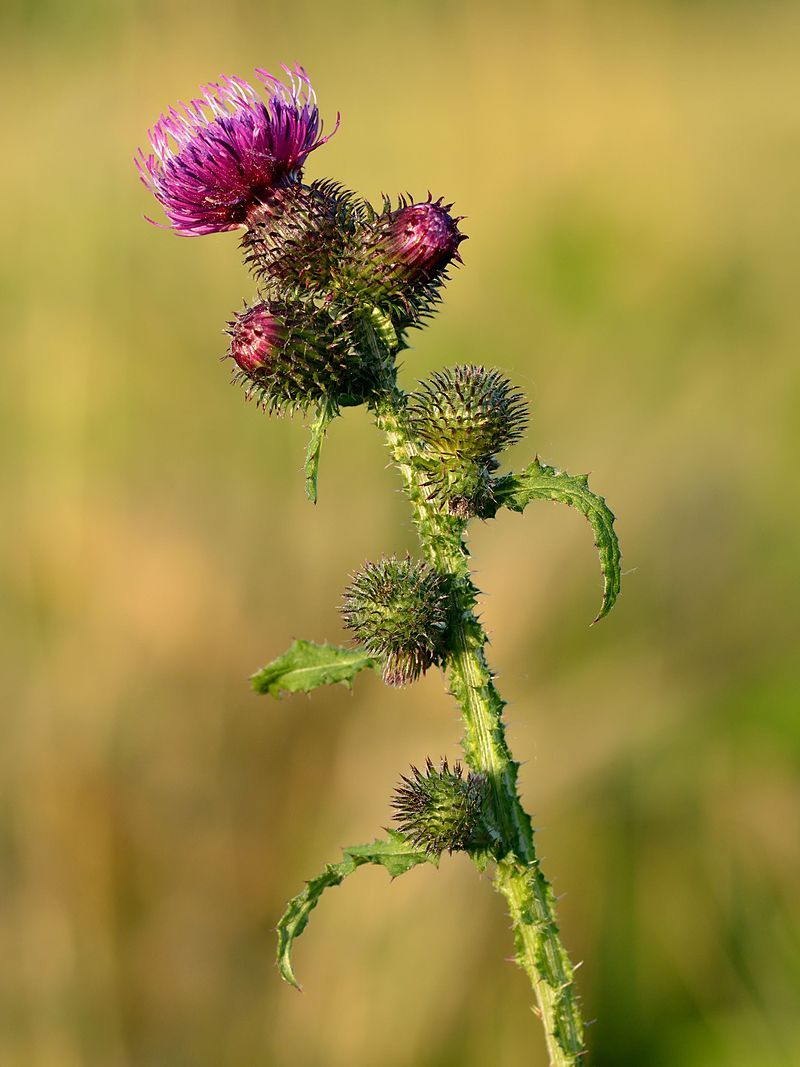thistle: (127, 82, 371, 287), (211, 292, 377, 431), (331, 184, 477, 315)
